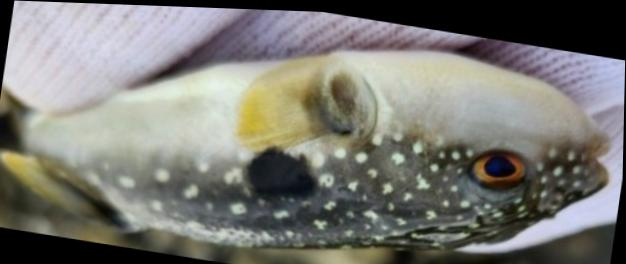fish: (0, 49, 609, 247)
